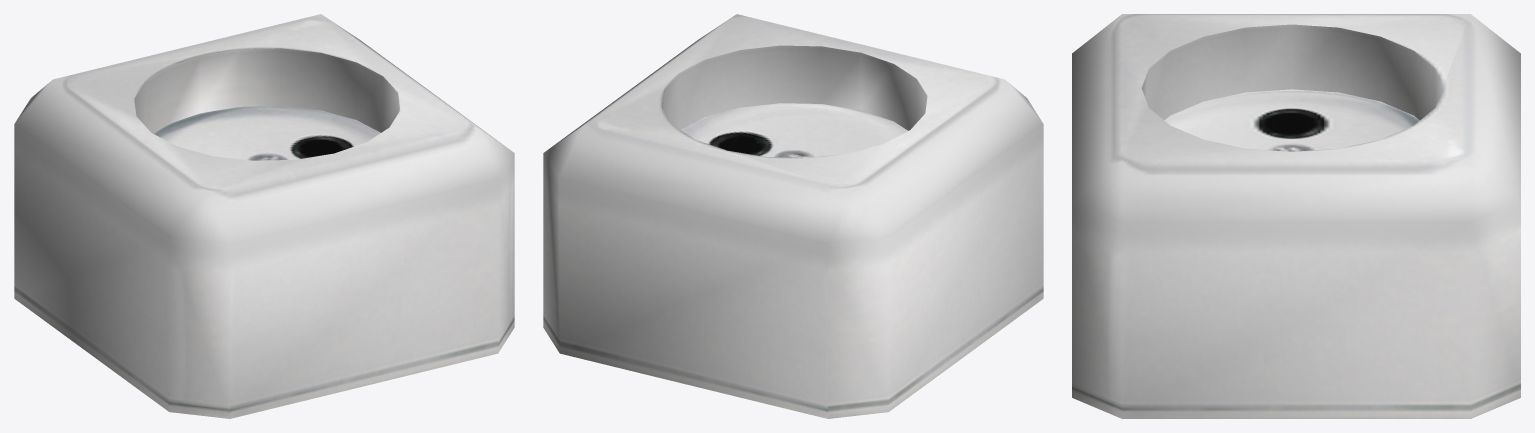
The model's file is electric_outlet.glb.
The picture shows the model from 3 angles, left to right: view 1: azimuth 30°, elevation 25°; view 2: azimuth 150°, elevation 25°; view 3: azimuth 270°, elevation 25°; orthographic projection. The views are drawn at different scales.
Parts seen in each view (by area): view 1: Object_2; view 2: Object_2; view 3: Object_2.
Boxes of the visible parts, <box> form: Object_2: <box>14,14,514,418</box>; Object_2: <box>543,14,1043,418</box>; Object_2: <box>1072,14,1520,418</box>.
Bounding box in the file's own units: 0.1003 × 0.0583 × 0.1003.
1 material, 1 textured.
